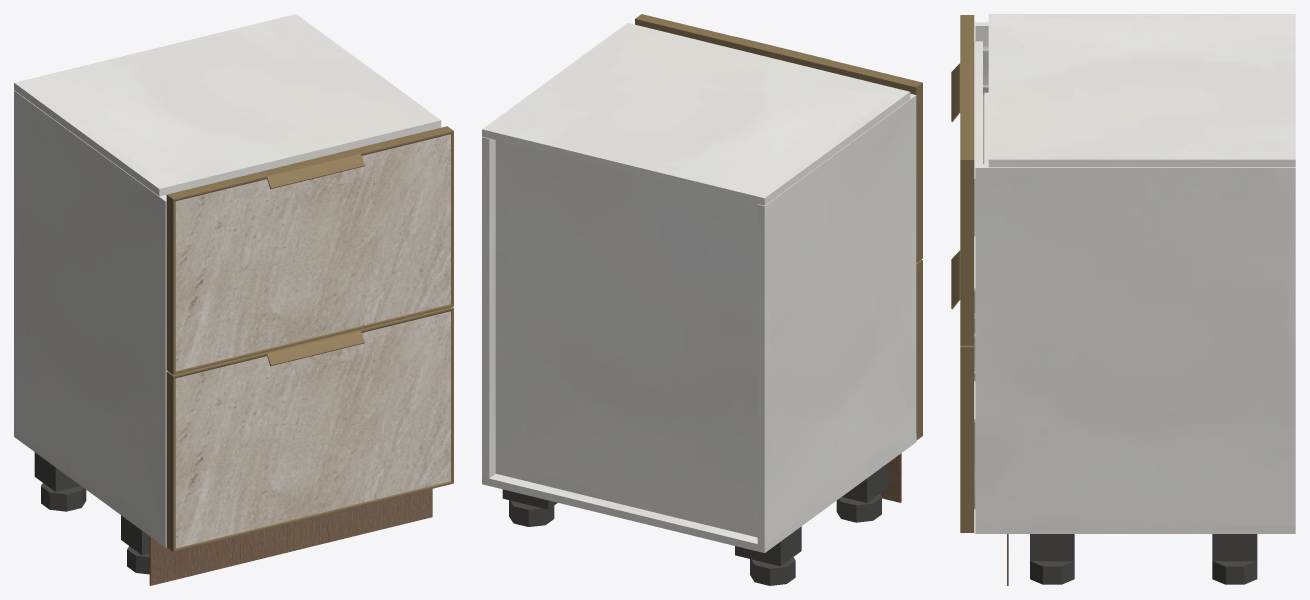
Rendered from BC-DW-TTS-ST-2HB-1BL-XXX-600-720-560-15.glb.
The picture shows the model from 3 angles, left to right: view 1: azimuth 30°, elevation 25°; view 2: azimuth 150°, elevation 25°; view 3: azimuth 270°, elevation 25°; orthographic projection. The views are drawn at different scales.
Parts seen in each view (by area): view 1: TP_node, Object_node_81, Object_node_83, TP_node_1, Object_node_85, ExtrSplGeo_node, Extrusion_node_4, Extrusion_node_11, ExtrSplGeo, TP, Extrusion_node_10, Extrusion_node_3 (+6 smaller); view 2: TP_node_9, TP_node, TP_node_1, TP, TP_node_0, Extrusion_node_11, ExtrSplGeo_node, Extrusion_node_4, Extrusion_node_7, Extrusion_node_8, Plate, Foot (+4 smaller); view 3: TP_node_0, TP_node_1, Extrusion_node_2, Extrusion_node_9, TP, Plate_node, TP_node_8, Plate_node_1, ExtrSplGeo_node, Foot_node, Foot_node_1, Extrusion_node_7 (+3 smaller).
Boxes of the visible parts, x1=… form: TP_node: x1=14, y1=90, x2=167, y2=540; Object_node_81: x1=175, y1=311, x2=450, y2=547; Object_node_83: x1=175, y1=134, x2=450, y2=370; TP_node_1: x1=14, y1=14, x2=441, y2=196; Object_node_85: x1=149, y1=489, x2=432, y2=585; ExtrSplGeo_node: x1=260, y1=149, x2=364, y2=189; Extrusion_node_4: x1=166, y1=372, x2=175, y2=551; Extrusion_node_11: x1=166, y1=195, x2=175, y2=374; ExtrSplGeo: x1=265, y1=329, x2=364, y2=366; TP: x1=14, y1=429, x2=166, y2=547; Extrusion_node_10: x1=173, y1=304, x2=453, y2=374; Extrusion_node_3: x1=173, y1=481, x2=453, y2=551; TP_node_9: x1=495, y1=140, x2=757, y2=537; TP_node: x1=757, y1=93, x2=916, y2=545; TP_node_1: x1=482, y1=23, x2=910, y2=205; TP: x1=482, y1=435, x2=916, y2=553; TP_node_0: x1=482, y1=137, x2=495, y2=478; Extrusion_node_11: x1=910, y1=83, x2=922, y2=262; ExtrSplGeo_node: x1=728, y1=36, x2=829, y2=70; Extrusion_node_4: x1=916, y1=260, x2=922, y2=439; Extrusion_node_7: x1=635, y1=14, x2=734, y2=47; Extrusion_node_8: x1=822, y1=60, x2=922, y2=91; Plate: x1=735, y1=526, x2=801, y2=566; Foot: x1=750, y1=557, x2=795, y2=585; TP_node_0: x1=975, y1=164, x2=1295, y2=526; TP_node_1: x1=988, y1=14, x2=1295, y2=167; Extrusion_node_2: x1=960, y1=347, x2=974, y2=532; Extrusion_node_9: x1=960, y1=160, x2=974, y2=345; TP: x1=975, y1=526, x2=1295, y2=533; Plate_node: x1=1212, y1=534, x2=1257, y2=561; TP_node_8: x1=974, y1=41, x2=982, y2=236; Plate_node_1: x1=1030, y1=534, x2=1074, y2=561; ExtrSplGeo_node: x1=951, y1=63, x2=974, y2=121; Foot_node: x1=1212, y1=561, x2=1257, y2=584; Foot_node_1: x1=1030, y1=561, x2=1074, y2=584; Extrusion_node_7: x1=960, y1=111, x2=974, y2=159.
Size of what is drawn, in the model's own units: 0.6 by 0.82 by 0.6.
7 materials, 3 textured.
